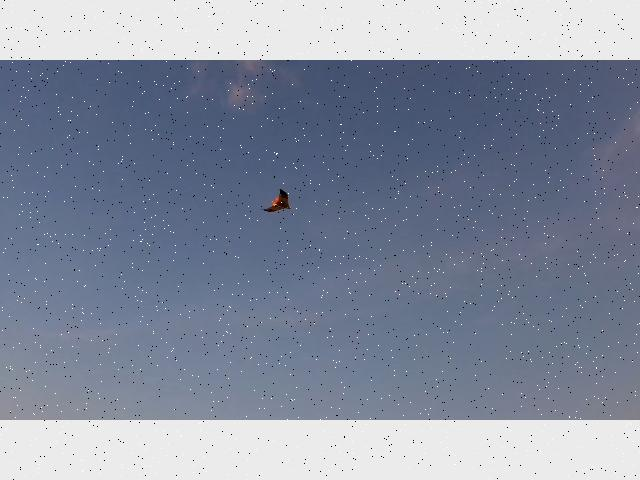Anti-Drone: (263, 189, 291, 213)
